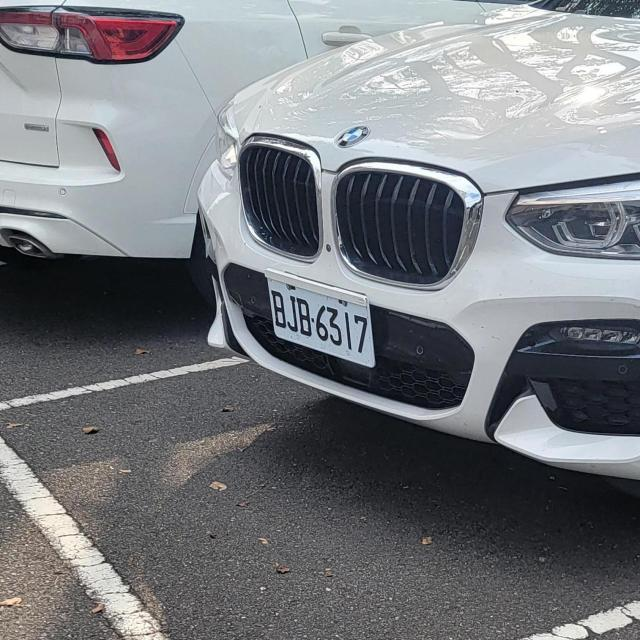W: (266, 277, 377, 369)
